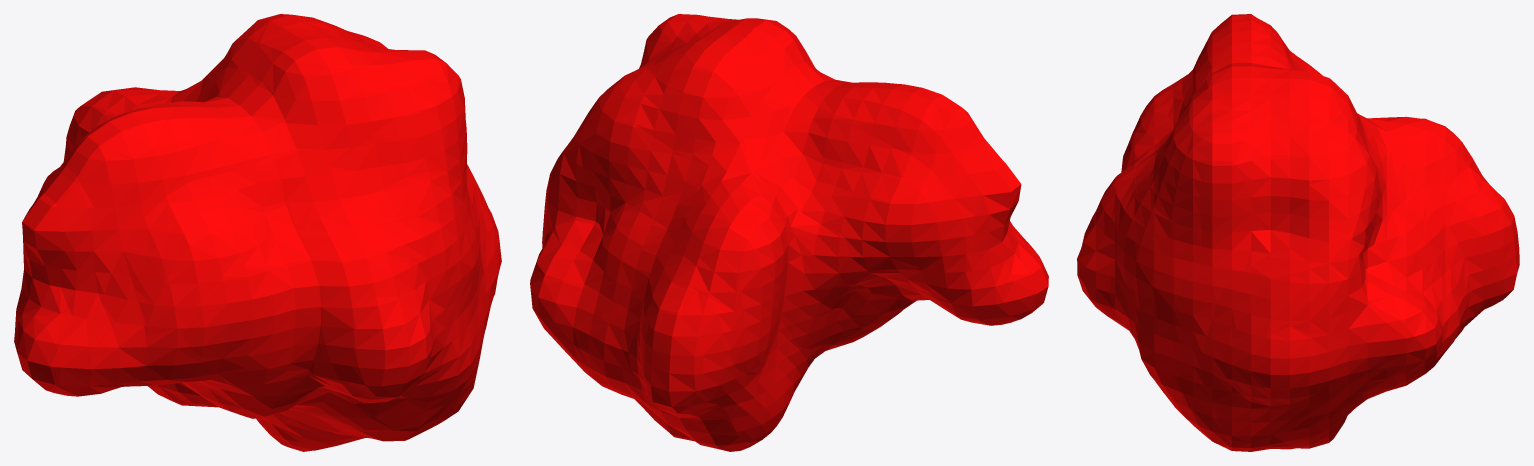
Rendered from ubiX_coarse.dae.
The picture shows the model from 3 angles, left to right: view 1: azimuth 30°, elevation 25°; view 2: azimuth 150°, elevation 25°; view 3: azimuth 270°, elevation 25°; orthographic projection. The views are drawn at different scales.
Parts seen in each view (by area): view 1: ubiX; view 2: ubiX; view 3: ubiX.
Boxes of the visible parts, bbox=[...] form: ubiX: bbox=[14, 14, 501, 451]; ubiX: bbox=[530, 14, 1048, 451]; ubiX: bbox=[1077, 14, 1519, 451].
Bounding box in the file's own units: 53.99 × 44.41 × 48.89.
